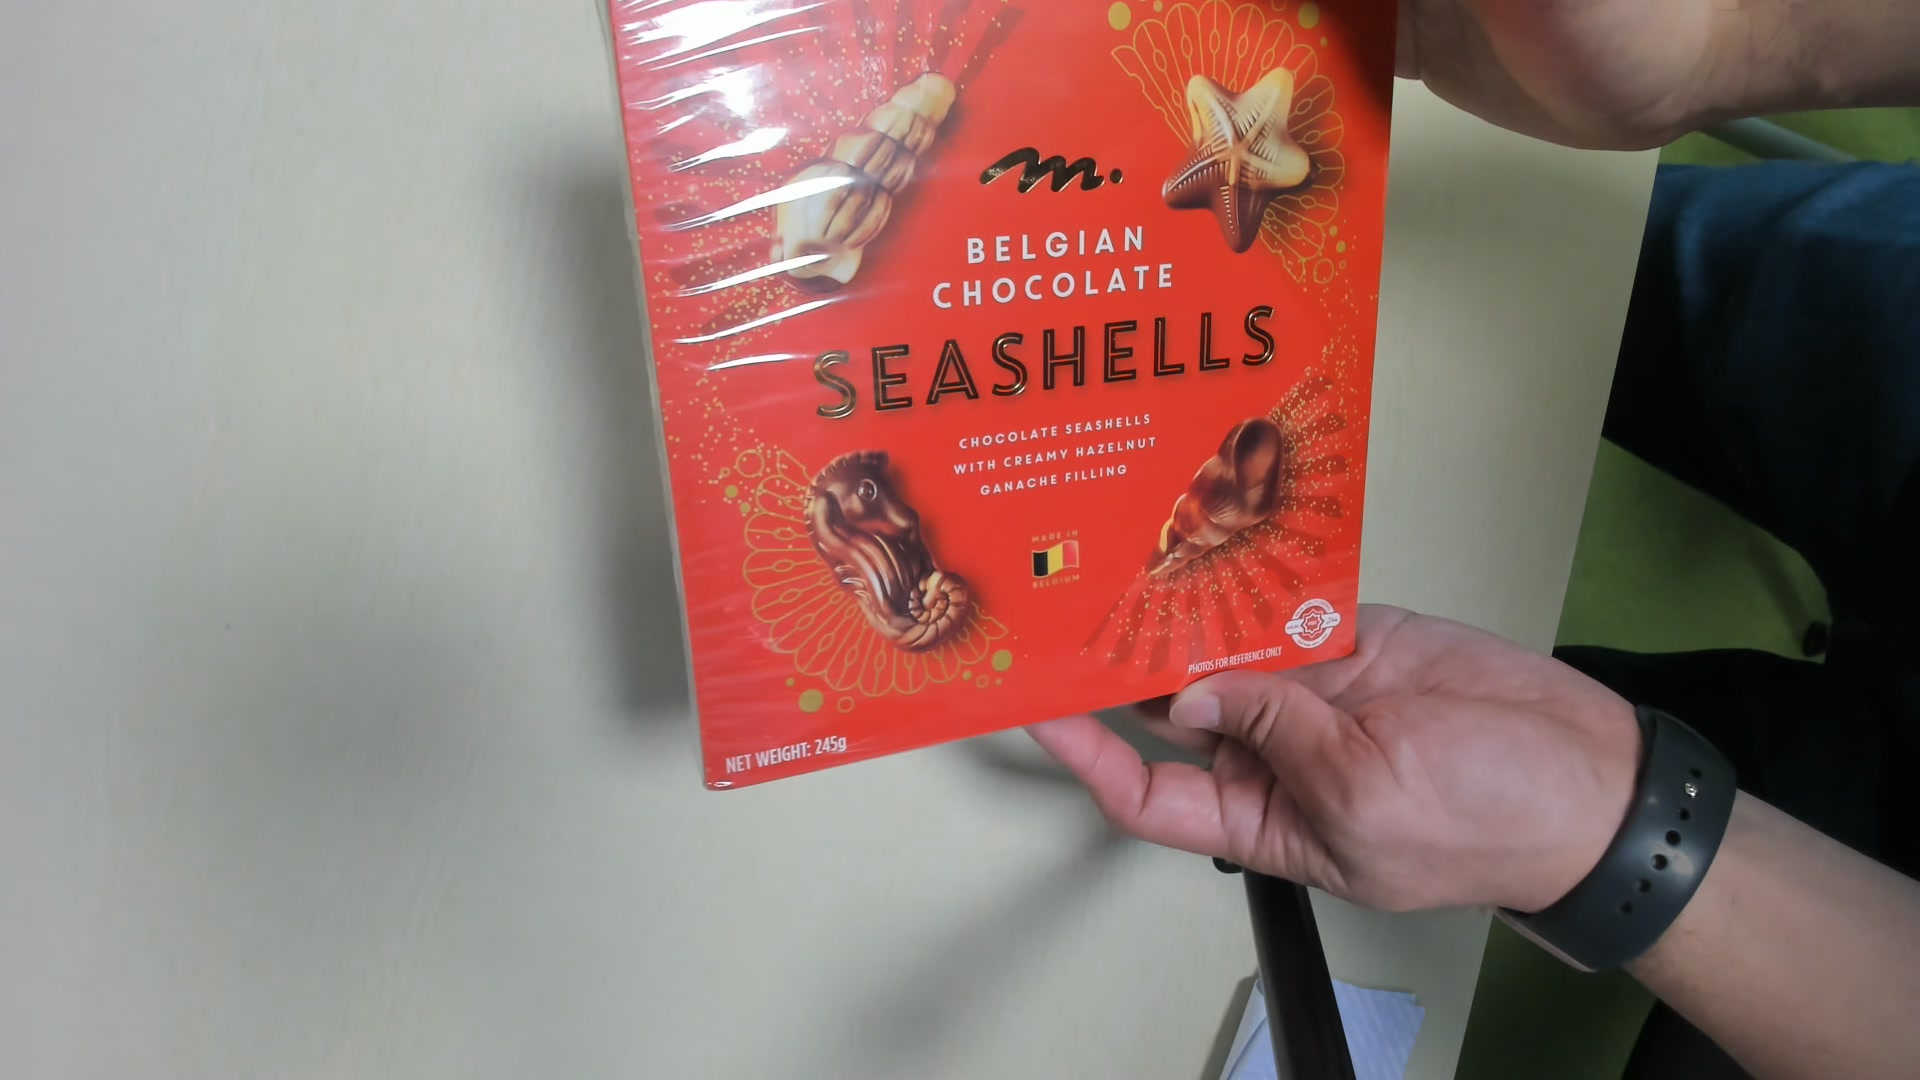SweetsChocolatesOthers_200-299g_Halal_Nonhealthy: (589, 3, 1382, 782)
